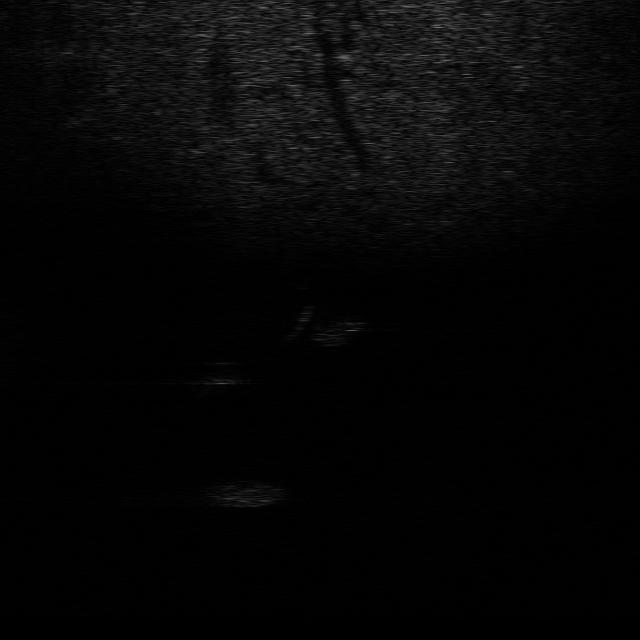ball: (180, 358, 242, 393)
circle cage: (202, 475, 286, 510)
human body: (285, 301, 367, 350)
